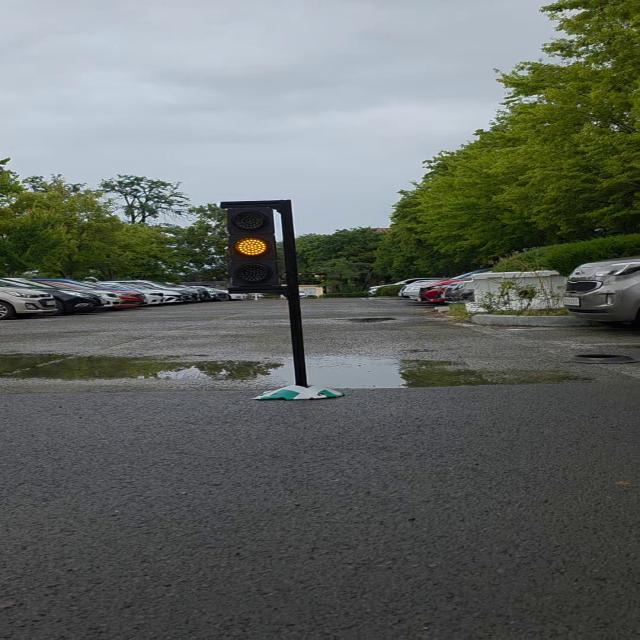yellow: (222, 199, 290, 295)
